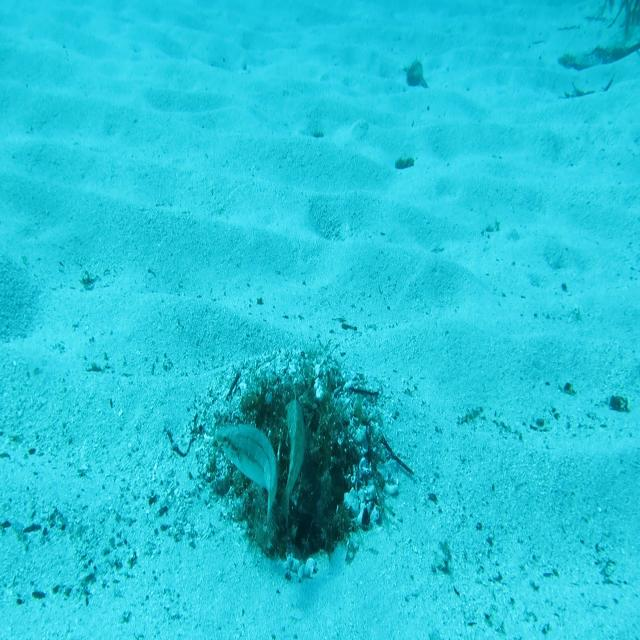FAN: (278, 387, 306, 532)
core_nest: (266, 398, 319, 438)
female: (212, 421, 282, 545)
nest: (188, 326, 408, 588)
vegetation: (548, 0, 640, 104), (402, 58, 431, 91), (396, 153, 416, 176)
